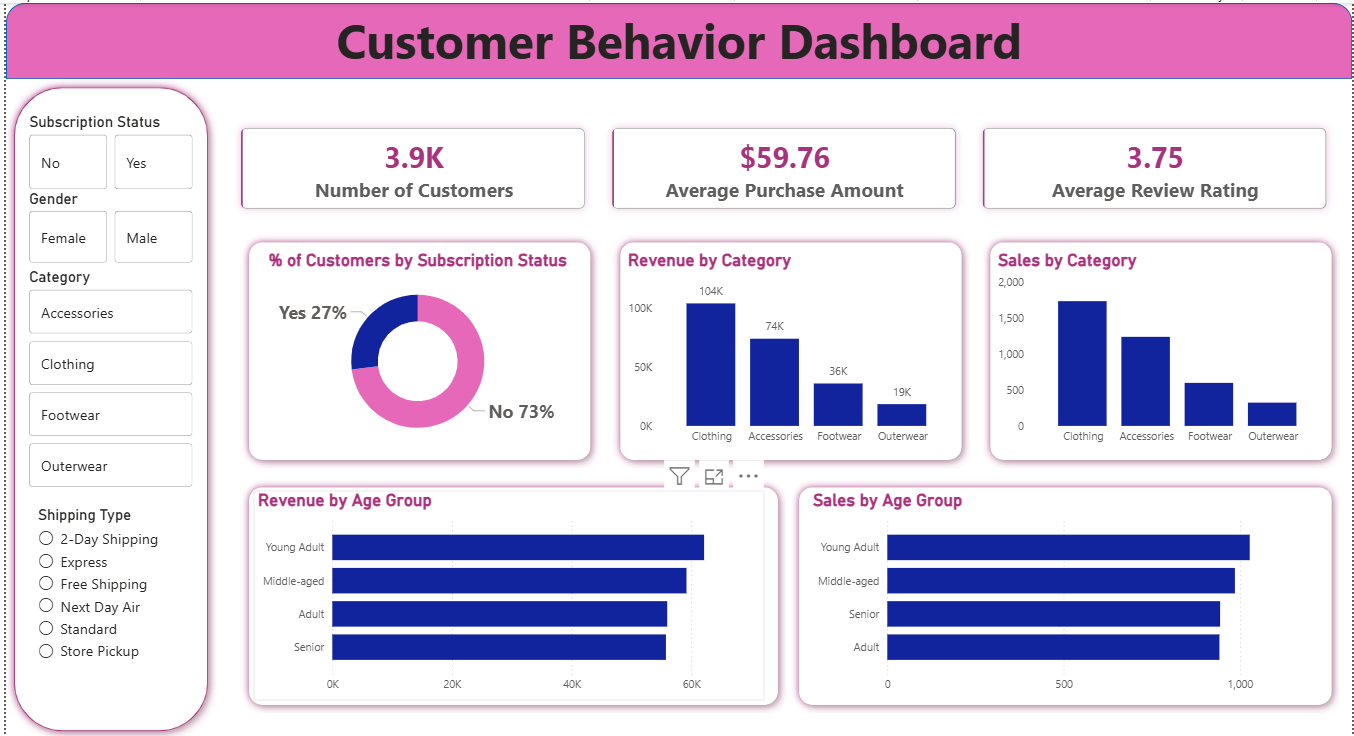

The dashboard page shown, as its layout file describes it:
{"tool":"powerbi","page":{"name":"Page 1","canvas":[1500,820],"ordinal":0},"visuals":[{"type":"cardVisual","fields":{"Data":["customer_behavior customer.Number of Customers","customer_behavior customer.Average Purchase Amount","customer_behavior customer.Average Review Rating"]},"box":[234,111.4,1265.9,146.2],"z":0},{"type":"shape","box":[0,0,1499.9,85],"z":1000},{"type":"textbox","box":[0,0,1499.9,85],"z":2000},{"type":"shape","box":[261.8,257.6,398.3,260.4],"z":3000},{"type":"donutChart","title":"% of Customers by Subscription Status","fields":{"Category":["customer_behavior customer.subscription_status"],"Y":["CountNonNull(customer_behavior customer.customer_id)"]},"box":[275.7,275.7,366.3,225.6],"z":4000},{"type":"shape","box":[674.7,257.6,398.3,260.4],"z":5000},{"type":"shape","box":[1087.7,257.6,398.3,260.4],"z":6000},{"type":"clusteredColumnChart","title":"Revenue by Category","fields":{"Y":["Sum(customer_behavior customer.purchase_amount)"],"Category":["customer_behavior customer.category"]},"box":[688,275.7,373.2,225.6],"z":7000},{"type":"clusteredColumnChart","title":"Sales by Category","fields":{"Y":["CountNonNull(customer_behavior customer.customer_id)"],"Category":["customer_behavior customer.category"]},"box":[1100.2,275.7,373.2,225.6],"z":8000},{"type":"shape","box":[0,85,234,735.3],"z":9000},{"type":"advancedSlicerVisual","fields":{"Values":["customer_behavior customer.subscription_status"]},"box":[20.9,122.6,192.2,90.5],"z":10000},{"type":"advancedSlicerVisual","fields":{"Values":["customer_behavior customer.gender"]},"box":[20.9,207.5,192.2,87.7],"z":11000},{"type":"advancedSlicerVisual","fields":{"Values":["customer_behavior customer.category"]},"box":[20.9,295.2,192.2,250.7],"z":12000},{"type":"listSlicer","fields":{"Values":["customer_behavior customer.shipping_type"]},"box":[30.6,559.9,172.7,231.2],"z":13000},{"type":"shape","box":[261.8,530.6,607.2,260.4],"z":14000},{"type":"clusteredBarChart","title":"Revenue by Age Group","fields":{"Y":["Sum(customer_behavior customer.purchase_amount)"],"Category":["customer_behavior customer.age_group"]},"box":[275.7,543.1,569.6,234],"z":15000},{"type":"shape","box":[874.6,530.6,611.4,260.4],"z":16000},{"type":"clusteredBarChart","title":"Sales by Age Group","fields":{"Y":["CountNonNull(customer_behavior customer.customer_id)"],"Category":["customer_behavior customer.age_group"]},"box":[894.1,543.1,579.4,234],"z":17000}]}

Visuals, with their boxes in screenshot pixels (x1, y1, x2, y2), scaled from the page's 1500x820 canvas onto the 1354x736 screenshot:
cardVisual - customer_behavior customer.Number of Customers x customer_behavior customer.Average Purchase Amount: 211:100:1353:231
shape: 0:0:1353:76
textbox: 0:0:1353:76
shape: 236:231:596:465
"% of Customers by Subscription Status" donutChart: 249:247:580:450
shape: 609:231:969:465
shape: 982:231:1341:465
"Revenue by Category" clusteredColumnChart: 621:247:958:450
"Sales by Category" clusteredColumnChart: 993:247:1330:450
shape: 0:76:211:735
advancedSlicerVisual - customer_behavior customer.subscription_status: 19:110:192:191
advancedSlicerVisual - customer_behavior customer.gender: 19:186:192:265
advancedSlicerVisual - customer_behavior customer.category: 19:265:192:490
listSlicer - customer_behavior customer.shipping_type: 28:503:184:710
shape: 236:476:784:710
"Revenue by Age Group" clusteredBarChart: 249:487:763:697
shape: 789:476:1341:710
"Sales by Age Group" clusteredBarChart: 807:487:1330:697
